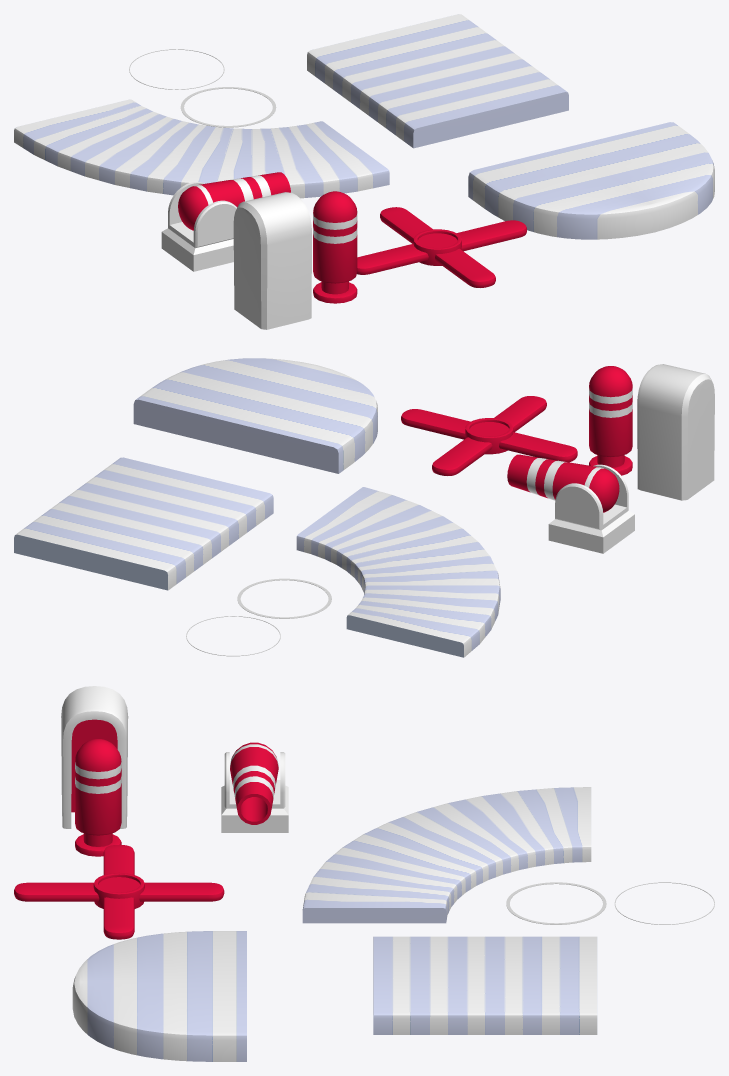
The model's file is asset.fbx.
3 views of the same model, one above another, from view 1: azimuth 30°, elevation 25°; view 2: azimuth 150°, elevation 25°; view 3: azimuth 270°, elevation 25° (orthographic). The views are drawn at different scales.
Visible parts, largest first — view 1: 90_angel_platform, S_platform001, end_platform, tunnel, fan, Capsule, base, cannon, ring_1; view 2: 90_angel_platform, S_platform001, end_platform, tunnel, fan, base, Capsule, cannon, ring_1; view 3: 90_angel_platform, S_platform001, end_platform, fan, tunnel, Capsule, cannon, base, ring_1.
Part boxes in pixels (x1,y1,x2,y2): 90_angel_platform: (14, 99, 389, 198); S_platform001: (307, 14, 568, 148); end_platform: (468, 122, 714, 239); tunnel: (233, 192, 311, 329); fan: (357, 207, 526, 287); Capsule: (313, 191, 357, 303); base: (161, 182, 236, 271); cannon: (178, 172, 290, 230); ring_1: (180, 87, 276, 127); 90_angel_platform: (296, 487, 500, 657); S_platform001: (14, 457, 273, 590); end_platform: (133, 358, 377, 473); tunnel: (637, 364, 714, 500); fan: (401, 396, 577, 475); base: (548, 464, 634, 553); Capsule: (589, 366, 632, 475); cannon: (507, 454, 619, 512); ring_1: (237, 578, 331, 618); 90_angel_platform: (302, 787, 591, 923); S_platform001: (373, 936, 597, 1034); end_platform: (72, 931, 246, 1061); fan: (14, 845, 224, 939); tunnel: (61, 686, 128, 828); Capsule: (75, 739, 121, 856); cannon: (230, 742, 278, 824); base: (221, 752, 288, 832); ring_1: (506, 882, 606, 924).
Bounding box in the file's own units: 846 × 187 × 976.
3 materials, 1 textured.
